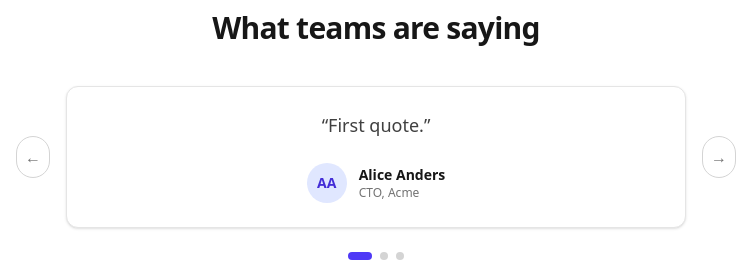
Scenario: TestimonialCarousel › advances to the next testimonial
Click the button named "Next testimonial".
click(719, 157)  # box [702, 136, 736, 178]
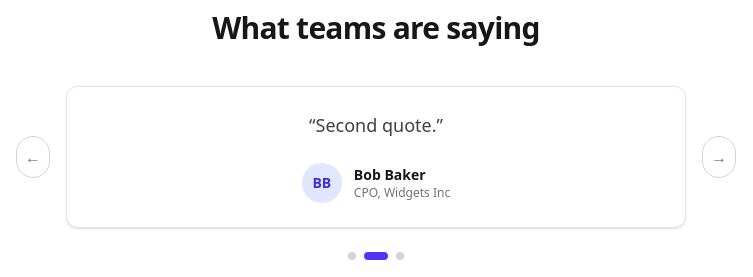
Now the text "“Second quote.”" is shown, box [309, 113, 443, 137]
